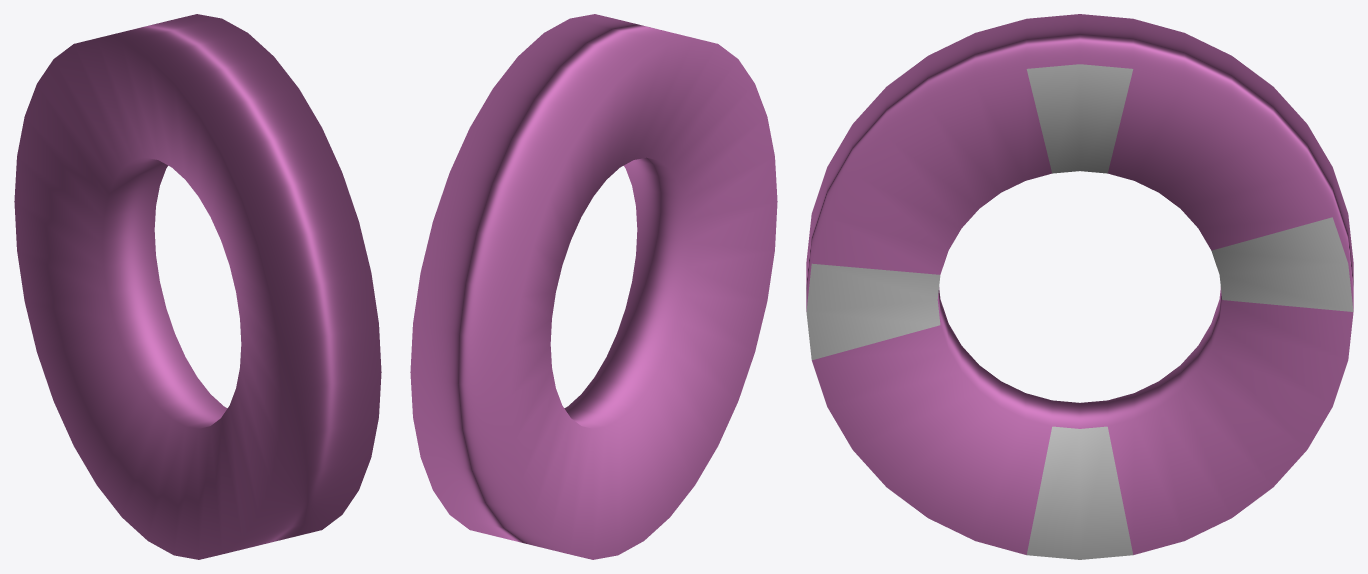
The model's file is FireThrow.fbx.
3 views of the same model, side by side, from view 1: azimuth 30°, elevation 25°; view 2: azimuth 150°, elevation 25°; view 3: azimuth 270°, elevation 25° (orthographic). The views are drawn at different scales.
Visible parts, largest first — view 1: Cylinder; view 2: Cylinder; view 3: Cylinder.
Boxes of the visible parts, bbox=[...] form: Cylinder: bbox=[14, 14, 381, 559]; Cylinder: bbox=[410, 14, 777, 559]; Cylinder: bbox=[806, 14, 1353, 559].
Size of the model in its own units: 25.59 by 118 by 118.
